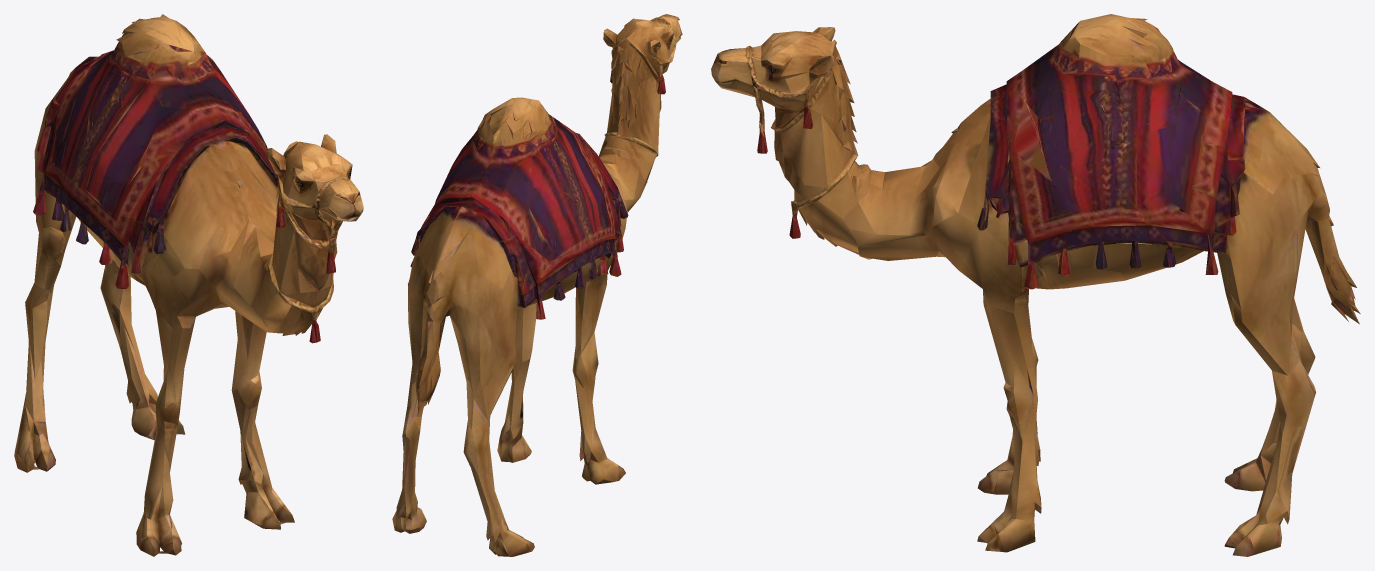
The model's file is camel.glb.
3 views of the same model, side by side, from view 1: azimuth 30°, elevation 25°; view 2: azimuth 150°, elevation 25°; view 3: azimuth 270°, elevation 25° (orthographic). The views are drawn at different scales.
Size of the model in its own units: 0.6568 by 1.6 by 1.89.
1 material, 1 textured.
